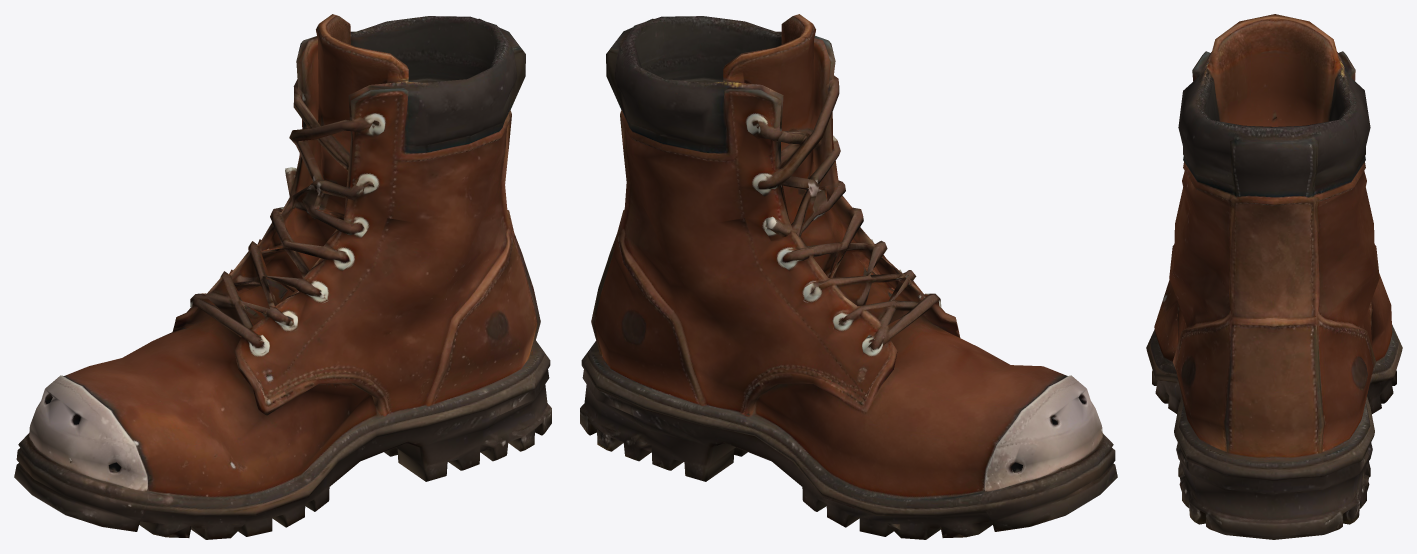
File: boot.glb
3 renders of one model, left to right at view 1: azimuth 30°, elevation 25°; view 2: azimuth 150°, elevation 25°; view 3: azimuth 270°, elevation 25°, orthographic.
Visible parts, largest first — view 1: tripo_node_6561f458-832e-4e18-933f-66fd9c66c9ef; view 2: tripo_node_6561f458-832e-4e18-933f-66fd9c66c9ef; view 3: tripo_node_6561f458-832e-4e18-933f-66fd9c66c9ef.
Part boxes in pixels (x1=…): tripo_node_6561f458-832e-4e18-933f-66fd9c66c9ef: x1=14, y1=14, x2=551, y2=539; tripo_node_6561f458-832e-4e18-933f-66fd9c66c9ef: x1=580, y1=14, x2=1117, y2=539; tripo_node_6561f458-832e-4e18-933f-66fd9c66c9ef: x1=1146, y1=14, x2=1402, y2=539.
Size of the model in its own units: 0.9777 by 0.7902 by 0.4267.
Materials: 1 (1 with a texture image).
